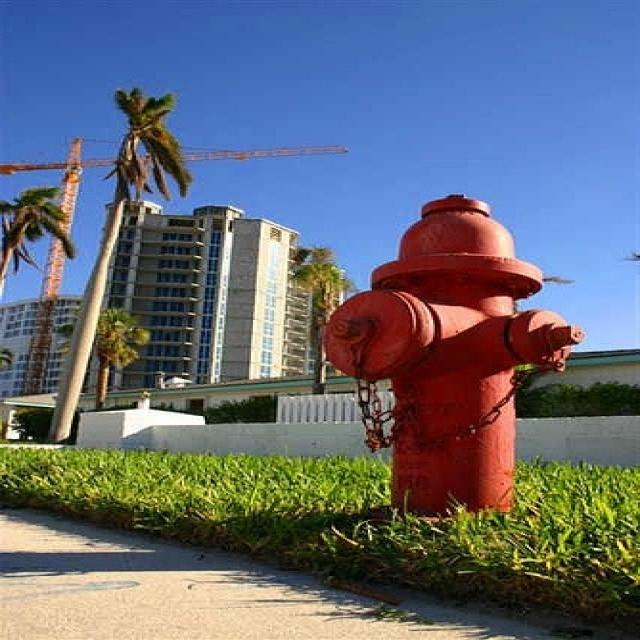fire_hydrant: (254, 191, 596, 559)
